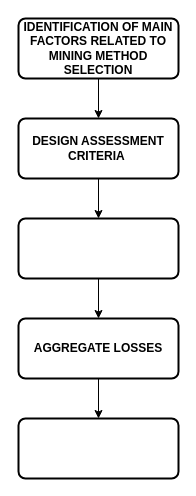
Some shapes in this 196 by 496 pixel diagram are drawn without their labels. The shapes that lost their labels are listed below. From the top down, each one's box as (x1, y1, x2, y2) in pixels, then its label:
(17, 217, 179, 279): DEFINE LOSS FUNCTION
(17, 417, 179, 479): RANK THE PREFERENCE ORDER
